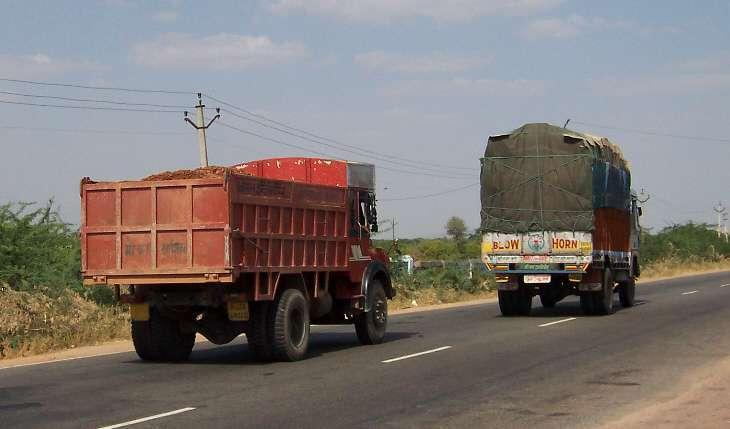truck: (68, 149, 396, 365), (461, 126, 657, 327)
